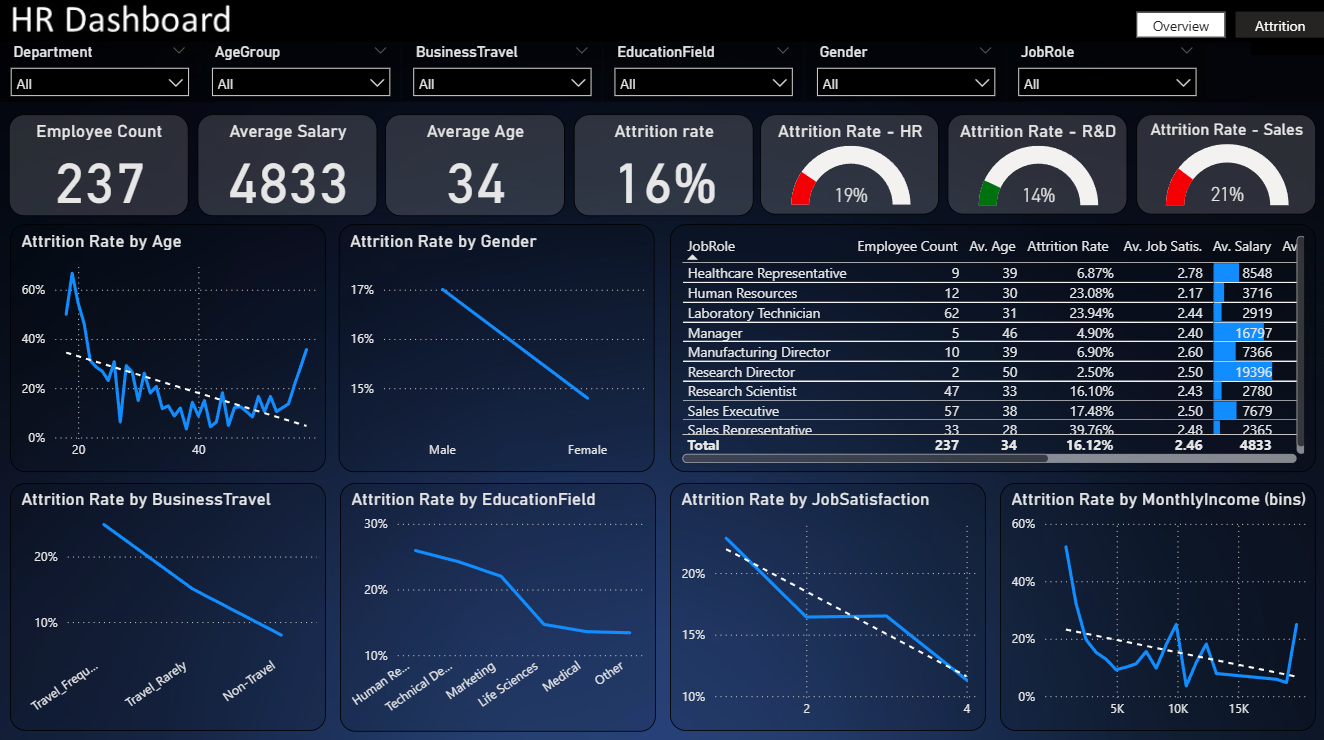

The page's visual inventory and layout, read from the dashboard file:
{"tool":"powerbi","page":{"name":"Attrition","canvas":[1280,720],"ordinal":1},"visuals":[{"type":"slicer","fields":{"Values":["HR_Analytics.Department"]},"box":[0,39,192,60.7],"z":0},{"type":"card","title":"Employee Count","fields":{"Values":["HR_Analytics.Employee Count"]},"box":[8.7,112.7,173.4,98.2],"z":1000},{"type":"slicer","fields":{"Values":["HR_Analytics.AgeGroup"]},"box":[194.3,39,192.1,60.7],"z":2000},{"type":"slicer","fields":{"Values":["HR_Analytics.BusinessTravel"]},"box":[388.8,39,192.1,60.7],"z":3000},{"type":"slicer","fields":{"Values":["HR_Analytics.EducationField"]},"box":[583.3,39,192.1,60.7],"z":4000},{"type":"slicer","fields":{"Values":["HR_Analytics.Gender"]},"box":[777.8,39,192.1,60.7],"z":5000},{"type":"slicer","fields":{"Values":["HR_Analytics.JobRole"]},"box":[972.3,39,192.1,60.7],"z":6000},{"type":"card","title":"Average Age","fields":{"Values":["HR_Analytics.Average Age"]},"box":[371.8,112.7,173.4,98.2],"z":7000},{"type":"card","title":"Average Salary","fields":{"Values":["HR_Analytics.Average Salary"]},"box":[190.2,112.7,173.4,98.2],"z":8000},{"type":"card","title":"Attrition rate","fields":{"Values":["HR_Analytics.Attrition Rate "]},"box":[553.3,112.7,173.4,98.2],"z":9000},{"type":"tableEx","fields":{"Values":["HR_Analytics.JobRole","HR_Analytics.Employee Count","HR_Analytics.Average Age","HR_Analytics.Attrition Rate ","HR_Analytics.Average Job Satisfaction","HR_Analytics.Average Salary","HR_Analytics.Average Salary Hike","HR_Analytics.Gender Ratio","HR_Analytics.OverTime %","HR_Analytics.Average Years","HR_Analytics.Attrition Count"]},"box":[646.7,218.6,623.1,239.6],"z":10000},{"type":"gauge","title":"Attrition Rate - HR","fields":{"Y":["HR_Analytics.Attrition Rate "]},"box":[733.9,112.7,173,96.8],"z":11000},{"type":"gauge","title":"Attrition Rate - R&D","fields":{"Y":["HR_Analytics.Attrition Rate "]},"box":[915,112.6,173.2,96.9],"z":12000},{"type":"gauge","title":"Attrition Rate - Sales","fields":{"Y":["HR_Analytics.Attrition Rate "]},"box":[1096.9,112.6,173.2,96.9],"z":13000},{"type":"lineChart","fields":{"Y":["HR_Analytics.Attrition Rate "],"Category":["HR_Analytics.Age"]},"box":[9.2,218.6,305,239.6],"z":14000},{"type":"lineChart","fields":{"Y":["HR_Analytics.Attrition Rate "],"Category":["HR_Analytics.BusinessTravel"]},"box":[9.2,468.7,305,239.6],"z":15000},{"type":"lineChart","fields":{"Y":["HR_Analytics.Attrition Rate "],"Category":["HR_Analytics.EducationField"]},"box":[327.7,468.7,305,240],"z":16000},{"type":"lineChart","fields":{"Y":["HR_Analytics.Attrition Rate "],"Category":["HR_Analytics.Gender"]},"box":[327.3,218.6,305,239.6],"z":17000},{"type":"lineChart","fields":{"Y":["HR_Analytics.Attrition Rate "],"Category":["HR_Analytics.JobSatisfaction"]},"box":[646.2,468.7,305,239.6],"z":18000},{"type":"lineChart","fields":{"Y":["HR_Analytics.Attrition Rate "],"Category":["HR_Analytics.MonthlyIncome (bins)"]},"box":[964.8,468.7,305,239.6],"z":19000},{"type":"textbox","box":[1207.6,0,72.1,54.8],"z":20001},{"type":"pageNavigator","box":[1096.5,13,183.2,26],"z":20501}]}

Visuals, with their boxes in screenshot pixels (x1, y1, x2, y2), scaled from the page's 1280x720 canvas onto the 1324x740 screenshot:
slicer - HR_Analytics.Department: box(0, 40, 199, 102)
"Employee Count" card: box(9, 116, 188, 217)
slicer - HR_Analytics.AgeGroup: box(201, 40, 400, 102)
slicer - HR_Analytics.BusinessTravel: box(402, 40, 601, 102)
slicer - HR_Analytics.EducationField: box(603, 40, 802, 102)
slicer - HR_Analytics.Gender: box(805, 40, 1003, 102)
slicer - HR_Analytics.JobRole: box(1006, 40, 1204, 102)
"Average Age" card: box(385, 116, 564, 217)
"Average Salary" card: box(197, 116, 376, 217)
"Attrition rate" card: box(572, 116, 752, 217)
tableEx - HR_Analytics.JobRole x HR_Analytics.Employee Count: box(669, 225, 1313, 471)
"Attrition Rate - HR" gauge: box(759, 116, 938, 215)
"Attrition Rate - R&D" gauge: box(946, 116, 1126, 215)
"Attrition Rate - Sales" gauge: box(1135, 116, 1314, 215)
lineChart - HR_Analytics.Attrition Rate  x HR_Analytics.Age: box(10, 225, 325, 471)
lineChart - HR_Analytics.Attrition Rate  x HR_Analytics.BusinessTravel: box(10, 482, 325, 728)
lineChart - HR_Analytics.Attrition Rate  x HR_Analytics.EducationField: box(339, 482, 654, 728)
lineChart - HR_Analytics.Attrition Rate  x HR_Analytics.Gender: box(339, 225, 654, 471)
lineChart - HR_Analytics.Attrition Rate  x HR_Analytics.JobSatisfaction: box(668, 482, 984, 728)
lineChart - HR_Analytics.Attrition Rate  x HR_Analytics.MonthlyIncome (bins): box(998, 482, 1313, 728)
textbox: box(1249, 0, 1323, 56)
pageNavigator: box(1134, 13, 1323, 40)
